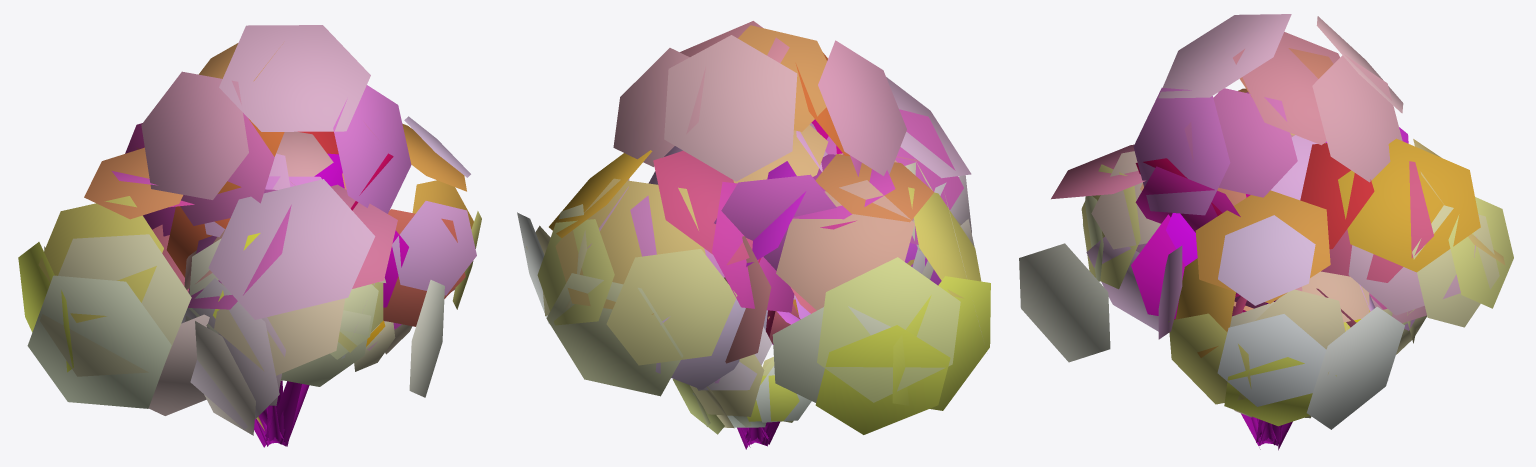
The model's file is tv_shrub.glb.
3 renders of one model, left to right at view 1: azimuth 30°, elevation 25°; view 2: azimuth 150°, elevation 25°; view 3: azimuth 270°, elevation 25°, orthographic. The views are drawn at different scales.
Visible parts, largest first — view 1: tv_shrub_v2_lod0, tv_shrub_v1_lod0, tv_shrub_v0_lod0; view 2: tv_shrub_v2_lod0, tv_shrub_v1_lod0, tv_shrub_v0_lod0; view 3: tv_shrub_v2_lod0, tv_shrub_v1_lod0.
Part boxes in pixels (<box>): tv_shrub_v2_lod0: <box>18,25,481,447</box>; tv_shrub_v1_lod0: <box>152,131,412,446</box>; tv_shrub_v0_lod0: <box>262,320,395,444</box>; tv_shrub_v2_lod0: <box>517,21,990,449</box>; tv_shrub_v1_lod0: <box>648,123,920,447</box>; tv_shrub_v0_lod0: <box>672,294,811,444</box>; tv_shrub_v2_lod0: <box>1019,14,1513,450</box>; tv_shrub_v1_lod0: <box>1081,133,1426,445</box>.
Size of what is drawn, in the model's own units: 2.83 by 2.62 by 2.8.
